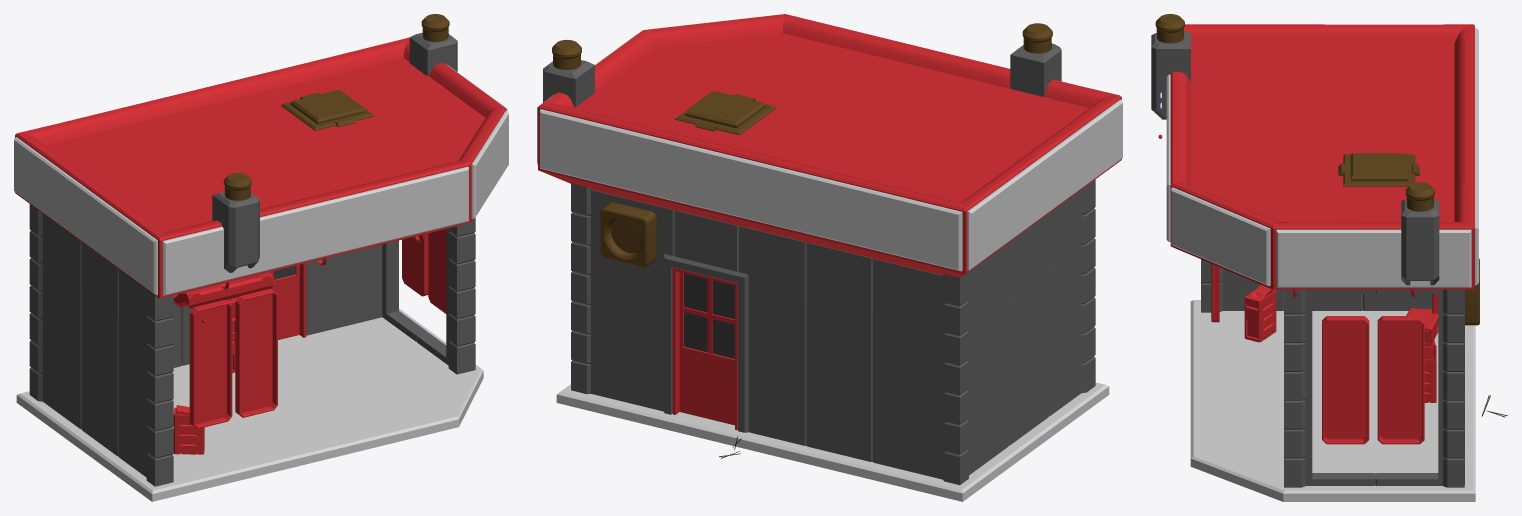
File: shop 7.fbx
3 views of the same model, side by side, from view 1: azimuth 30°, elevation 25°; view 2: azimuth 150°, elevation 25°; view 3: azimuth 270°, elevation 25° (orthographic). The views are drawn at different scales.
Visible parts, largest first — view 1: Desirefx.me_CyberShop_Cinema_PaintRed, Desirefx.me_CyberShop_Cinema_ConcreteGrey, Desirefx.me_CyberShop_Cinema_ConcreteTiles, Desirefx.me_CyberShop_Cinema_Brass, Desirefx.me_CyberShop_Cinema_PaintWhiteRusty; view 2: Desirefx.me_CyberShop_Cinema_ConcreteGrey, Desirefx.me_CyberShop_Cinema_PaintRed, Desirefx.me_CyberShop_Cinema_Brass, Desirefx.me_CyberShop_Cinema_ConcreteTiles, Desirefx.me_CyberShop_Cinema_PaintWhiteRusty, Desirefx.me_CyberShop_Cinema_GlassBlack; view 3: Desirefx.me_CyberShop_Cinema_PaintRed, Desirefx.me_CyberShop_Cinema_ConcreteTiles, Desirefx.me_CyberShop_Cinema_ConcreteGrey, Desirefx.me_CyberShop_Cinema_Brass, Desirefx.me_CyberShop_Cinema_PaintWhiteRusty.
Part boxes in pixels (x1,y1,x2,y2): Desirefx.me_CyberShop_Cinema_PaintRed: (15, 37, 506, 454); Desirefx.me_CyberShop_Cinema_ConcreteGrey: (29, 32, 475, 486); Desirefx.me_CyberShop_Cinema_ConcreteTiles: (16, 308, 483, 501); Desirefx.me_CyberShop_Cinema_Brass: (14, 65, 508, 295); Desirefx.me_CyberShop_Cinema_PaintWhiteRusty: (223, 14, 449, 200); Desirefx.me_CyberShop_Cinema_ConcreteGrey: (543, 43, 1095, 485); Desirefx.me_CyberShop_Cinema_PaintRed: (538, 14, 1121, 430); Desirefx.me_CyberShop_Cinema_Brass: (537, 33, 1122, 271); Desirefx.me_CyberShop_Cinema_ConcreteTiles: (556, 382, 1109, 501); Desirefx.me_CyberShop_Cinema_PaintWhiteRusty: (552, 23, 1052, 267); Desirefx.me_CyberShop_Cinema_GlassBlack: (684, 273, 734, 358); Desirefx.me_CyberShop_Cinema_PaintRed: (1158, 24, 1474, 444); Desirefx.me_CyberShop_Cinema_ConcreteTiles: (1190, 300, 1475, 501); Desirefx.me_CyberShop_Cinema_ConcreteGrey: (1151, 31, 1464, 487); Desirefx.me_CyberShop_Cinema_Brass: (1166, 28, 1478, 287); Desirefx.me_CyberShop_Cinema_PaintWhiteRusty: (1155, 14, 1479, 325).
Bounding box in the file's own units: 16.94 × 12.3 × 12.02.
